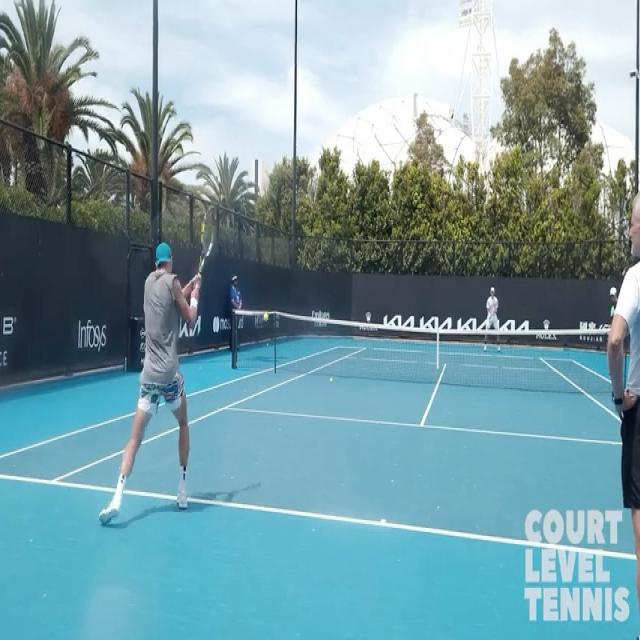backhand-finish: (102, 200, 224, 528)
